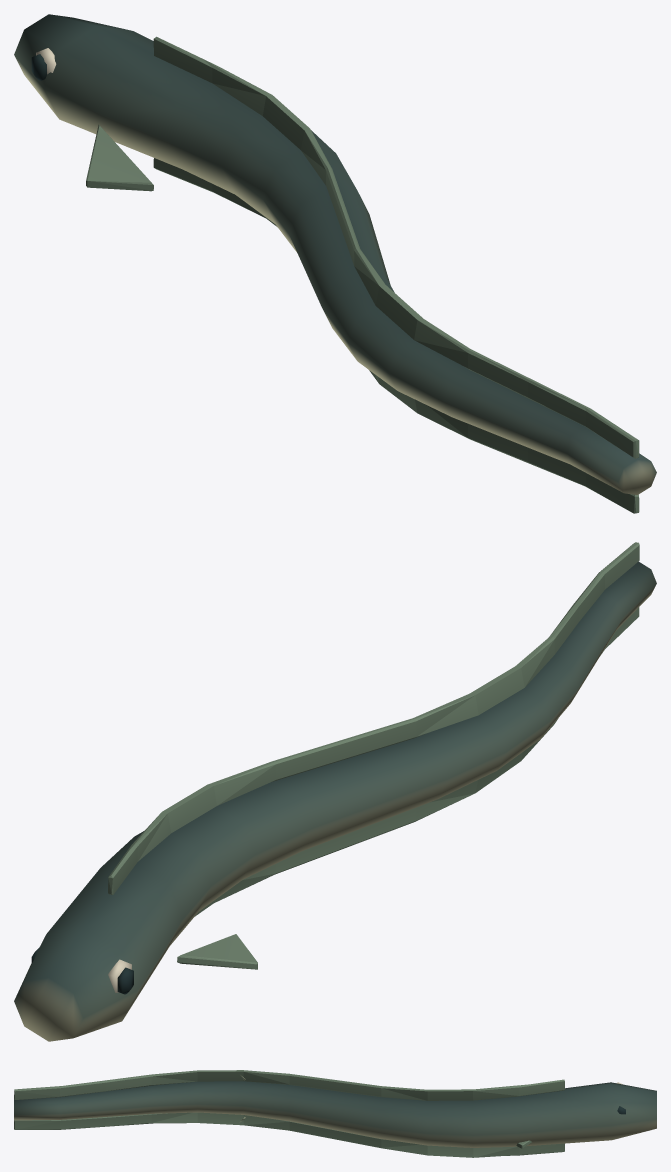
The model's file is fish_eel_low.glb.
The picture shows the model from 3 angles, top to bottom: view 1: azimuth 30°, elevation 25°; view 2: azimuth 150°, elevation 25°; view 3: azimuth 270°, elevation 25°; orthographic projection. The views are drawn at different scales.
Bounding box in the file's own units: 0.1069 × 0.0746 × 0.6.
